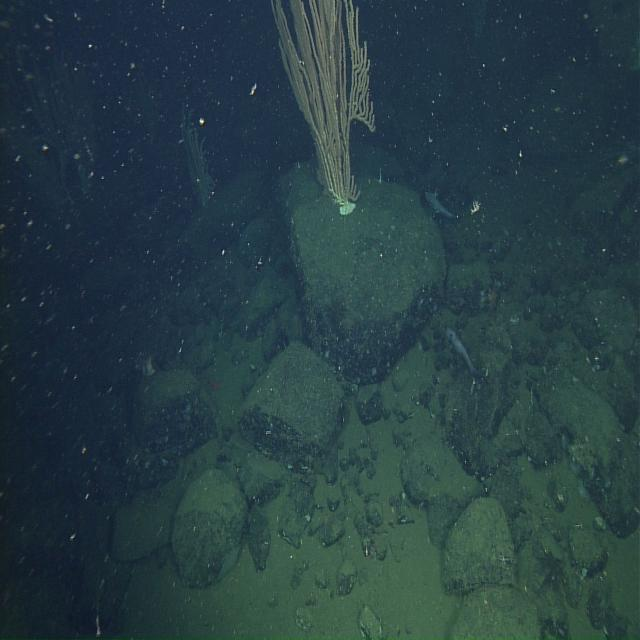Brittle Star: (496, 546, 512, 573)
Not Brittle Star: (268, 2, 379, 222), (442, 321, 484, 385), (422, 185, 460, 226)
